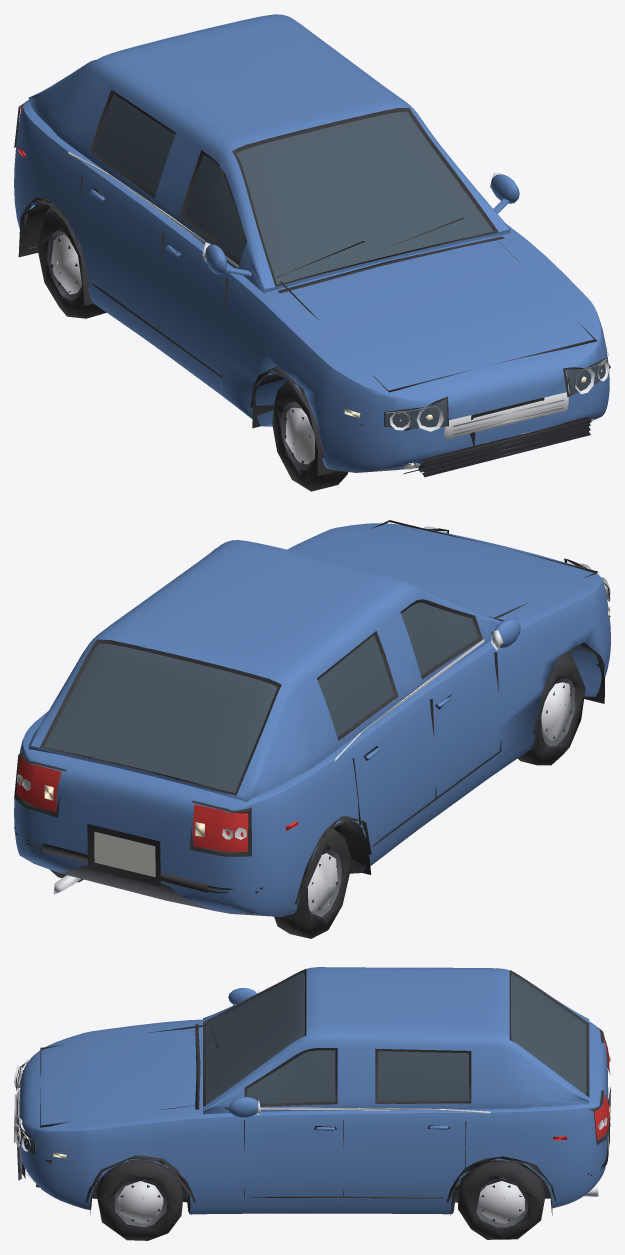
Rendered from CarV3_Hatch_L1.fbx.
The picture shows the model from 3 angles, top to bottom: view 1: azimuth 30°, elevation 25°; view 2: azimuth 150°, elevation 25°; view 3: azimuth 270°, elevation 25°; orthographic projection. The views are drawn at different scales.
Visible parts, largest first — view 1: CarV3_Hatch.001; view 2: CarV3_Hatch.001; view 3: CarV3_Hatch.001.
Boxes of the visible parts, bbox=[...] form: CarV3_Hatch.001: bbox=[14, 14, 610, 491]; CarV3_Hatch.001: bbox=[14, 520, 610, 938]; CarV3_Hatch.001: bbox=[14, 967, 610, 1240].
Size of the model in its own units: 1.84 by 1.48 by 4.05.
